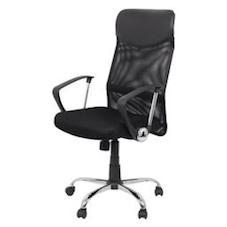chair: (34, 1, 195, 220)
